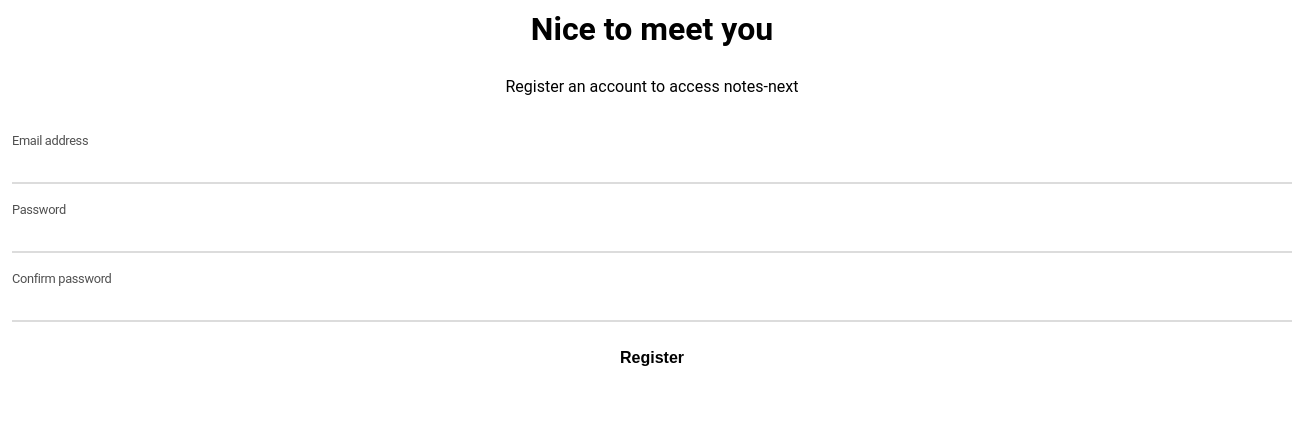
Test: On submit › should show error if passwords do not match
Type "asd@asd.com" into the field labelled "Email address".
click(652, 169); type("asd@asd.com")  # box [12,154,1292,184]
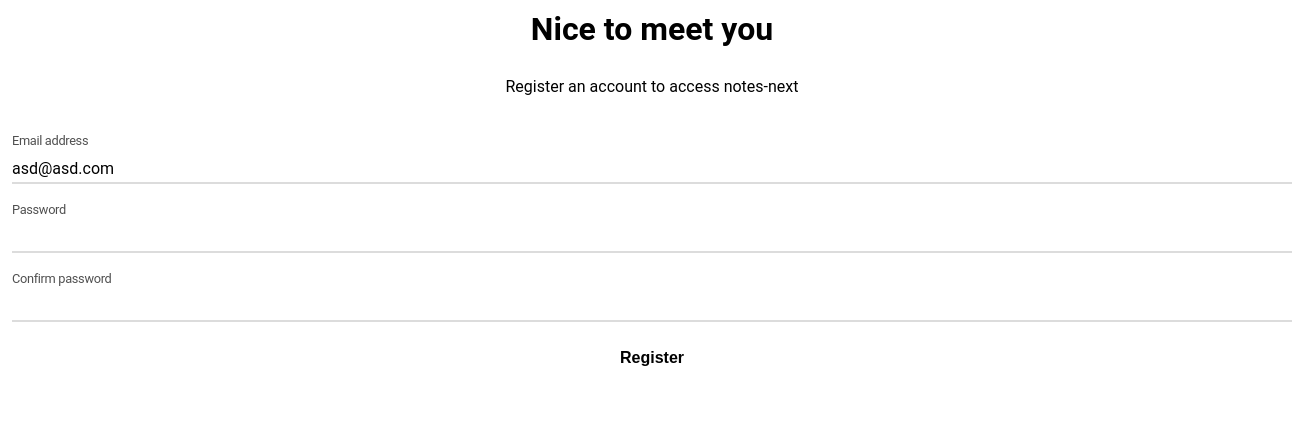
Type "secret" into the password field labelled "Password".
click(652, 238); type("secret")  # box [12,223,1292,253]
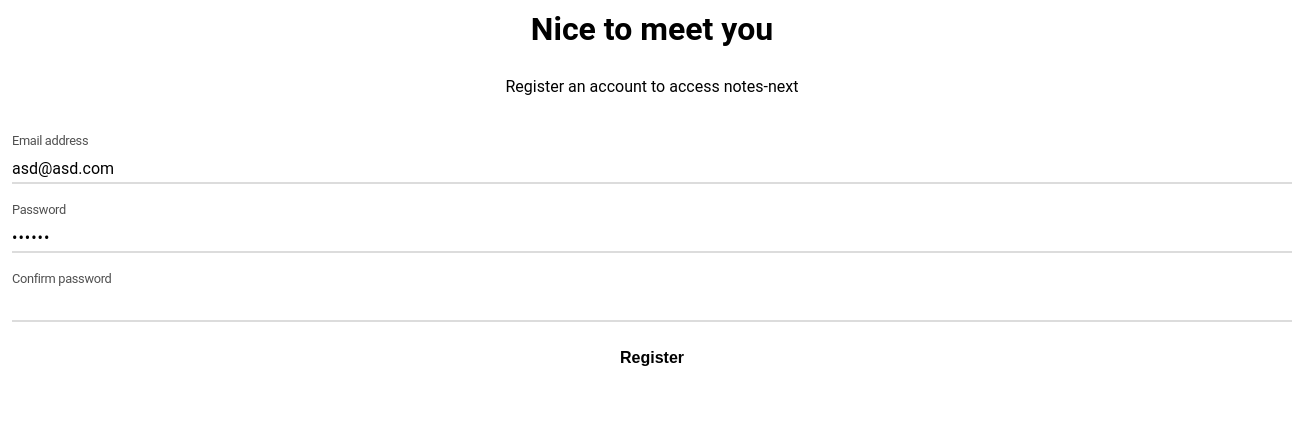
Type "secret" into the password field labelled "Confirm password".
click(652, 307); type("secret")  # box [12,292,1292,322]
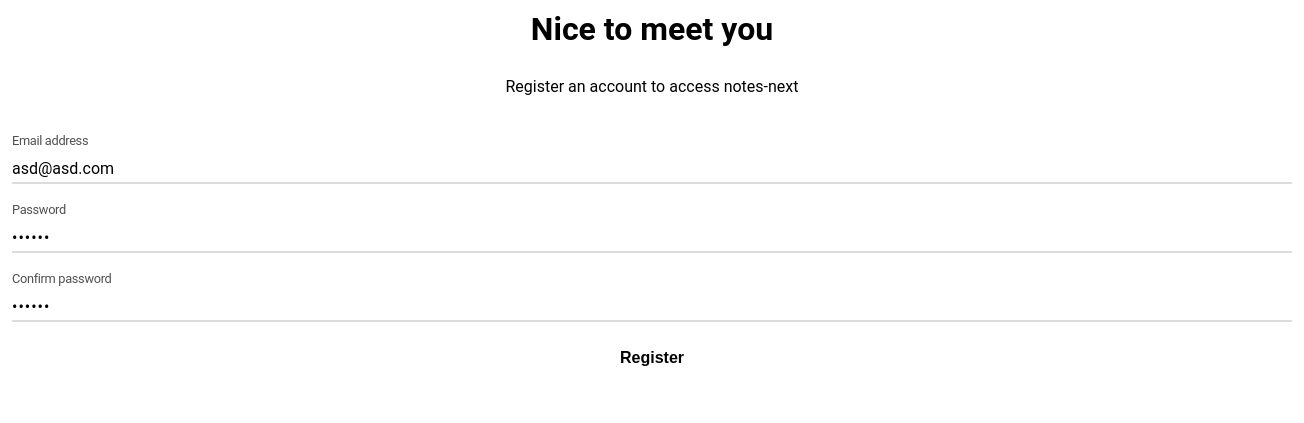
Type "something else" into the password field labelled "Confirm password".
click(652, 307); type("something else")  # box [12,292,1292,322]
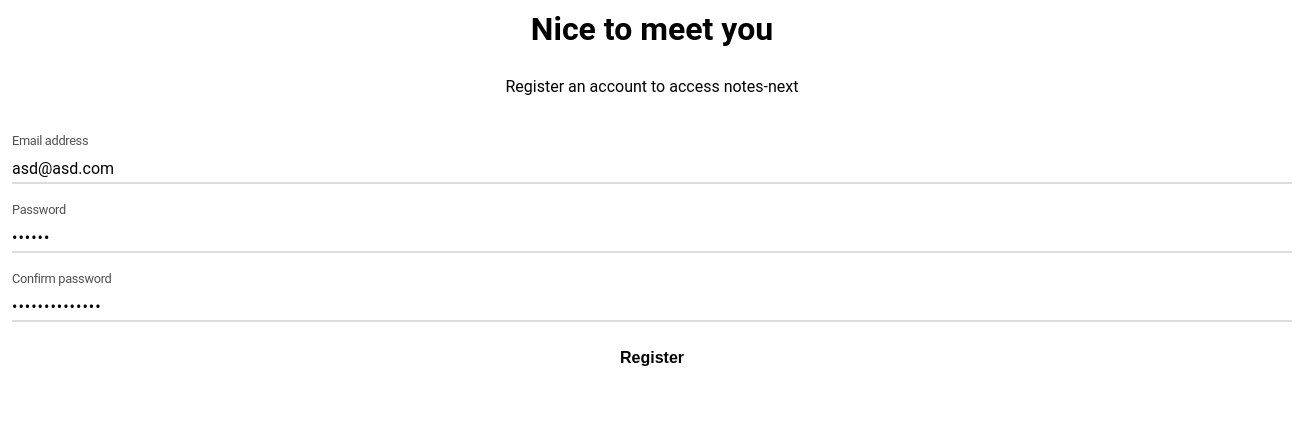
Click the button "Register".
click(652, 358)  # box [12,338,1292,378]
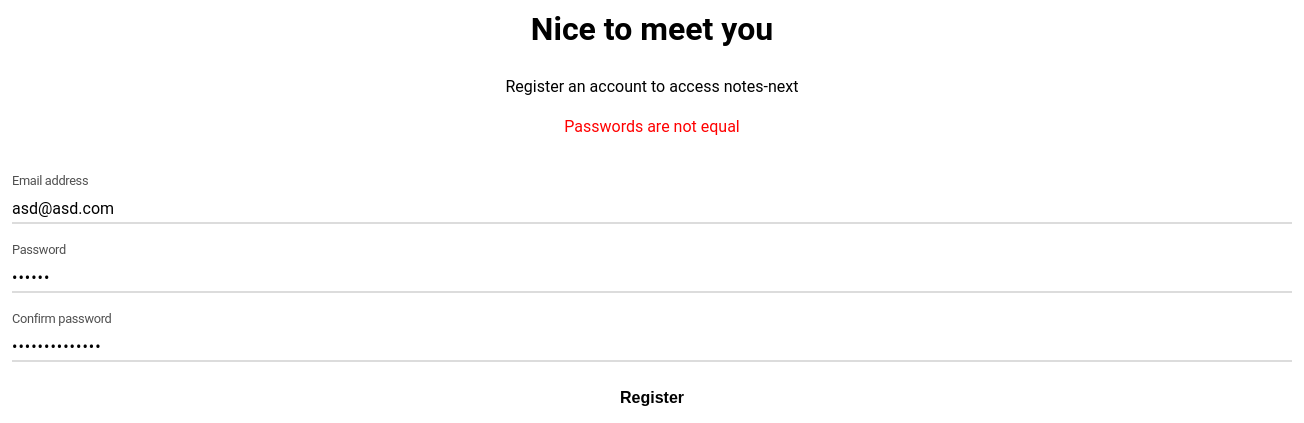
Check: the text "Passwords are not equal" is shown, box [564,117,740,136]
